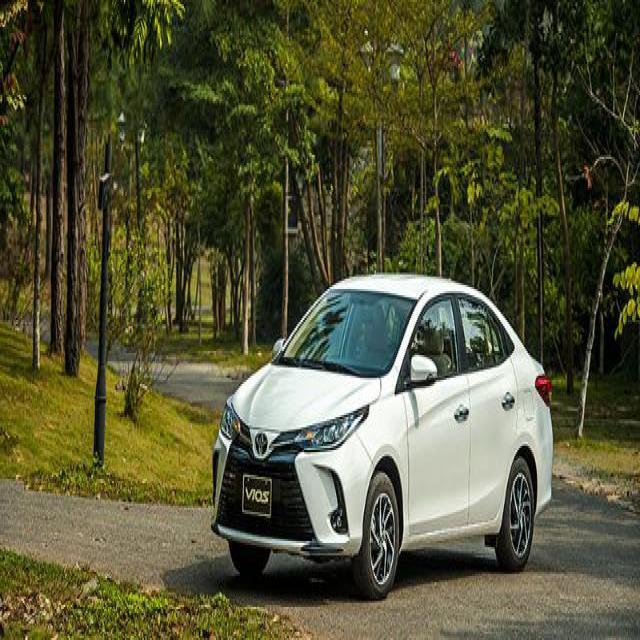ToyotaVios: (210, 268, 554, 601)
